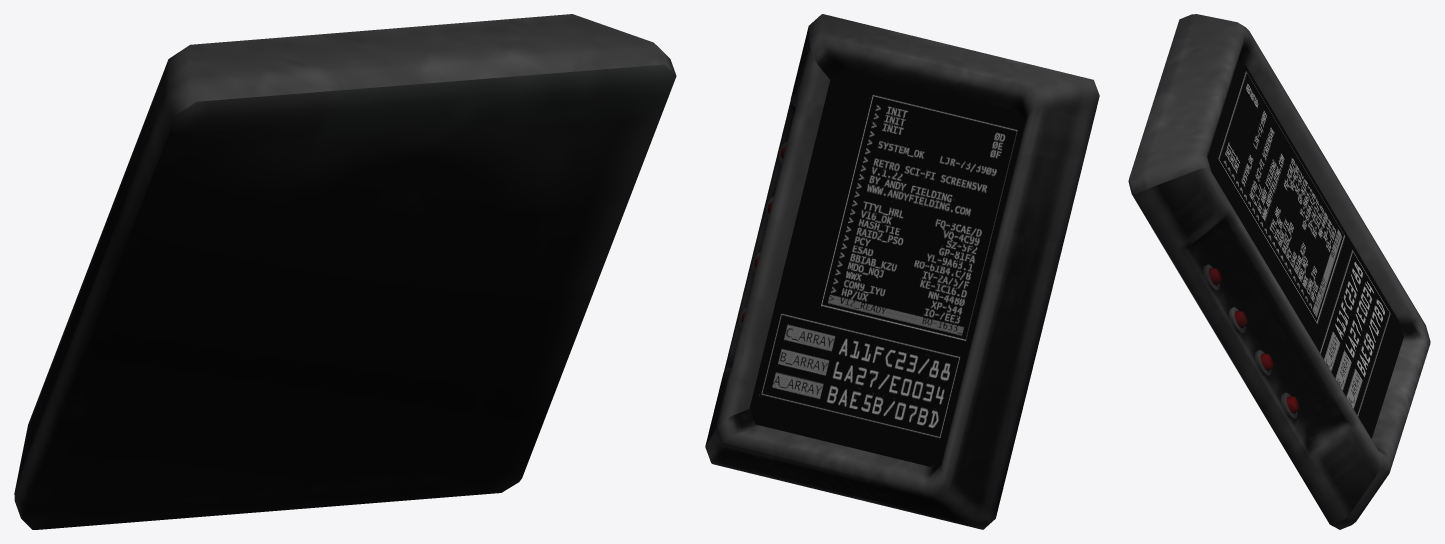
Rendered from RightScreen.fbx.
3 renders of one model, left to right at view 1: azimuth 30°, elevation 25°; view 2: azimuth 150°, elevation 25°; view 3: azimuth 270°, elevation 25°, orthographic. The views are drawn at different scales.
Visible parts, largest first — view 1: monitors_displ_0.001; view 2: monitors_displ_0.001; view 3: monitors_displ_0.001.
Boxes of the visible parts, left/top/right/bottom form: monitors_displ_0.001: left=14, top=14, right=676, bottom=529; monitors_displ_0.001: left=705, top=14, right=1099, bottom=529; monitors_displ_0.001: left=1128, top=14, right=1430, bottom=529.
Bounding box in the file's own units: 13.61 × 16.89 × 12.
